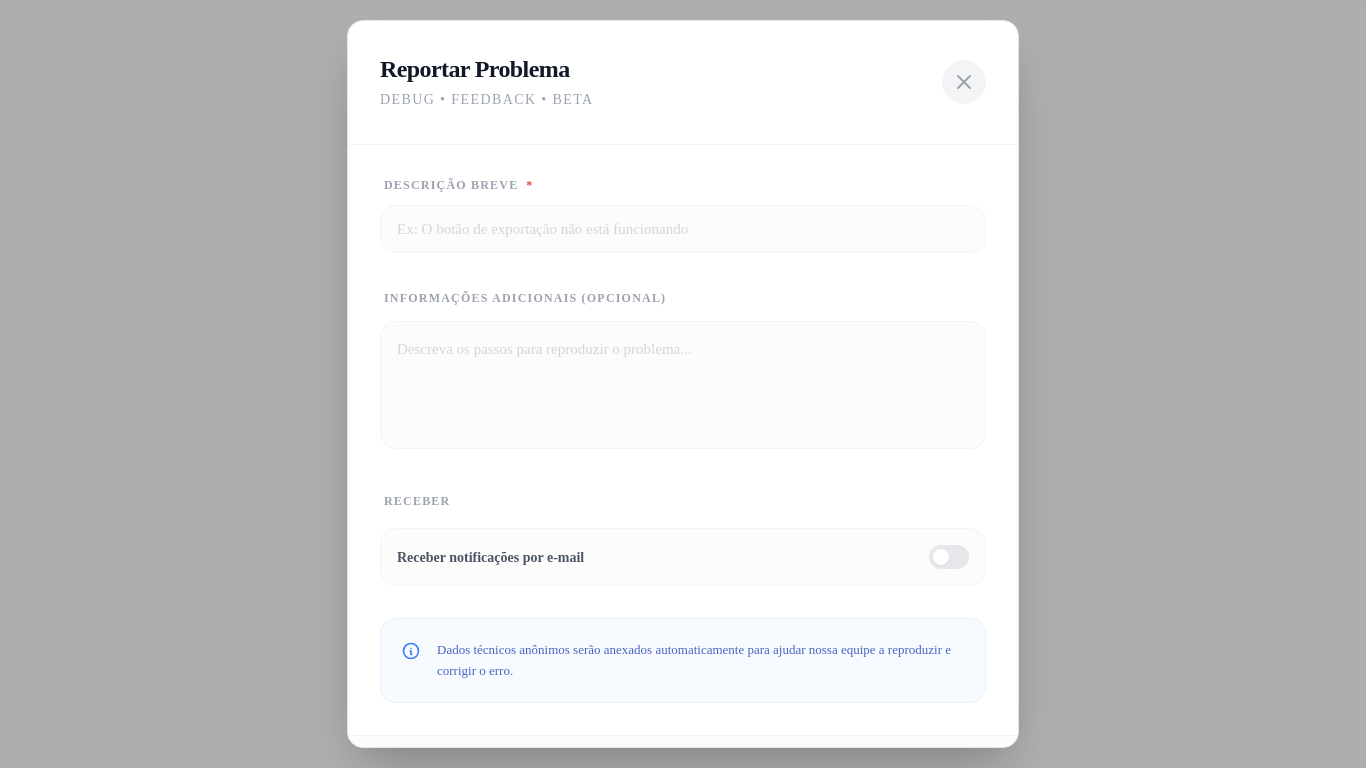
BugReportDialog › exibe erro quando checkbox marcado mas e-mail está vazio
The image size is (1366, 768).
Type "Descrição com mais de dez caracteres" into the field labelled "Descrição breve *" at (683, 229), box [380,205,986,253]
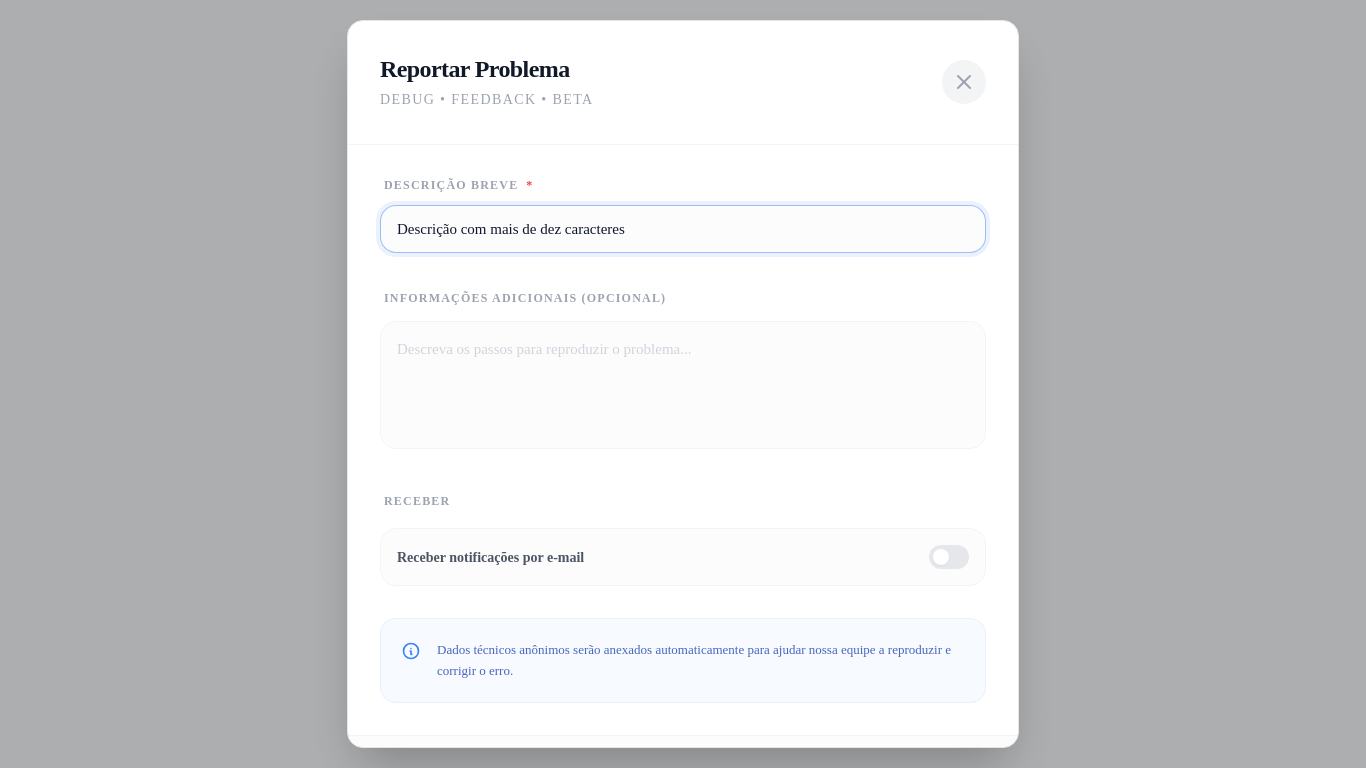
Click the checkbox at (491, 557), box [380,528,986,586]
(page scrolled)
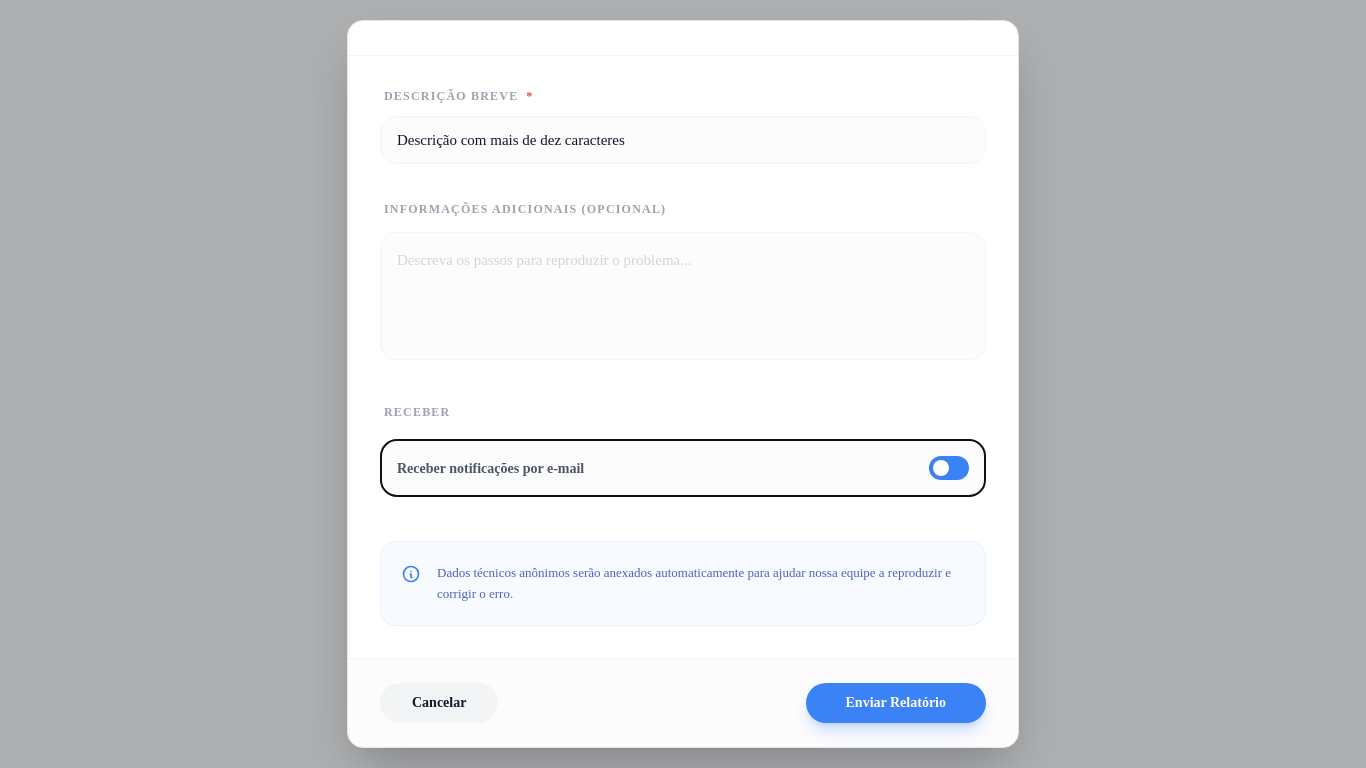
Click the button "Enviar Relatório" at (896, 702), box [806,682,986,722]
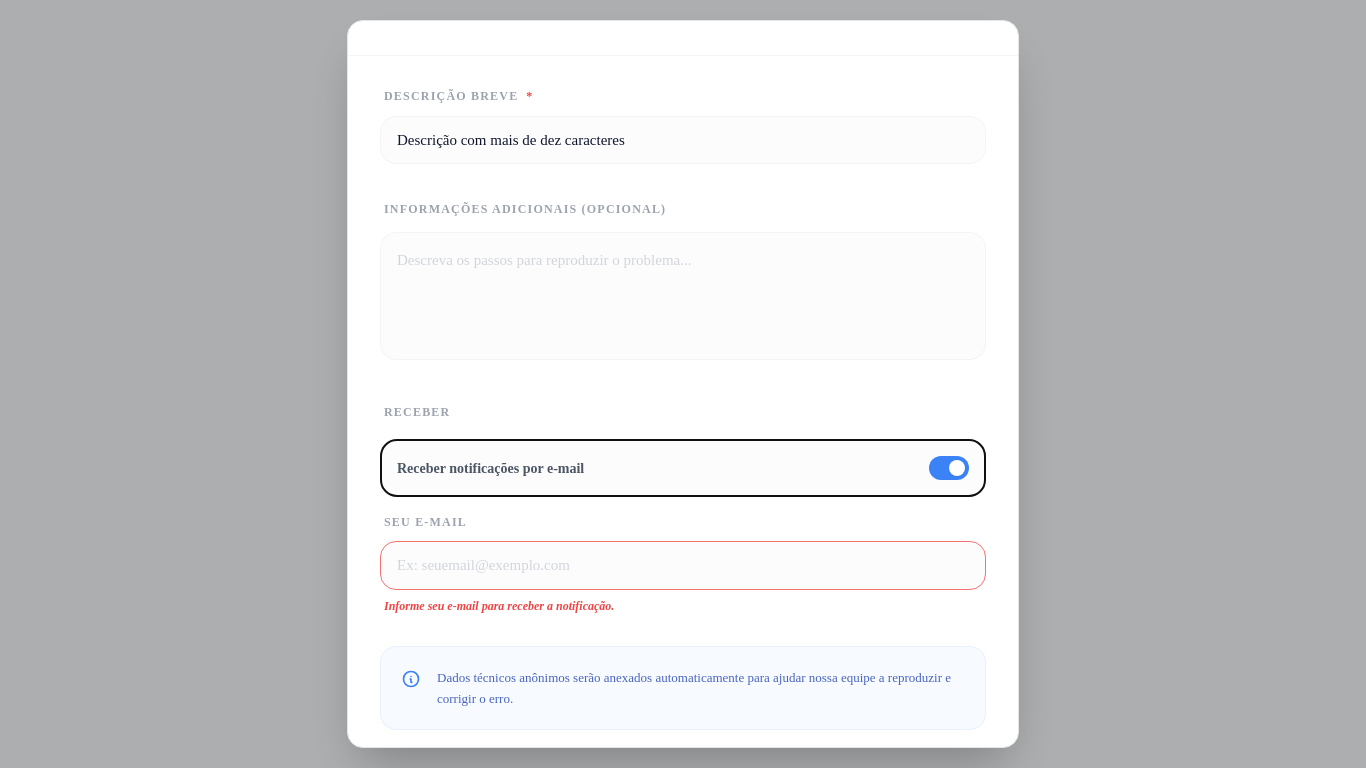
Now the text "Informe seu e-mail para receber a notificação." is shown, box [384,599,614,613]
